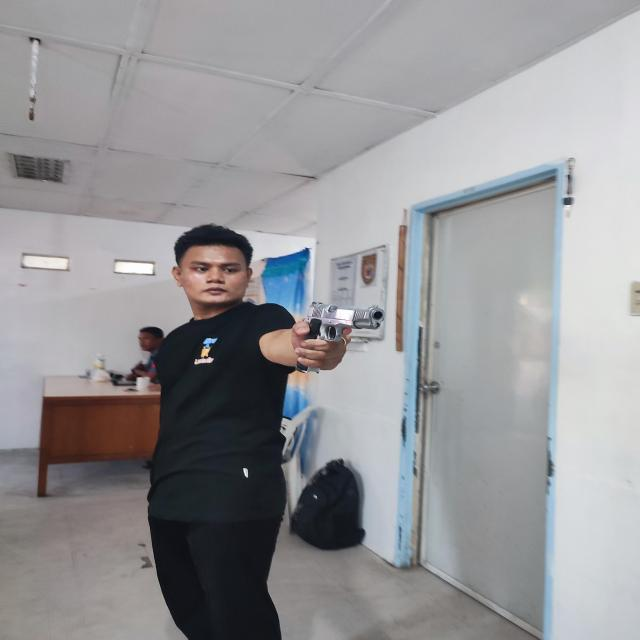pistol: (295, 301, 384, 374)
